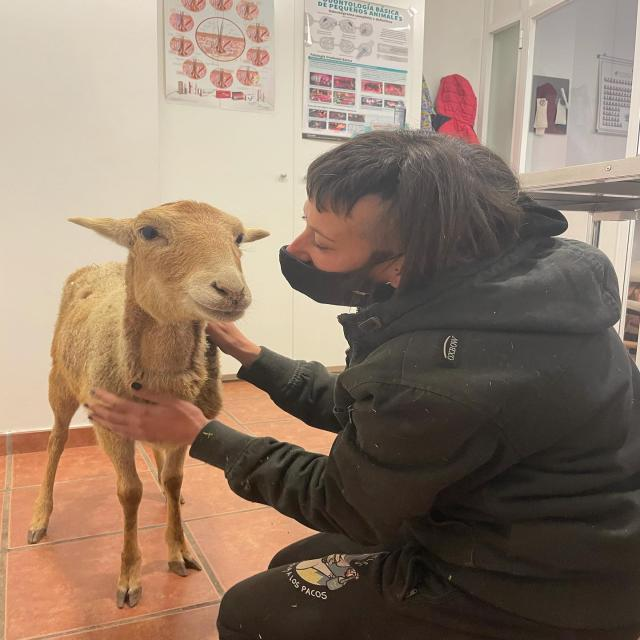goat: (12, 173, 284, 593)
